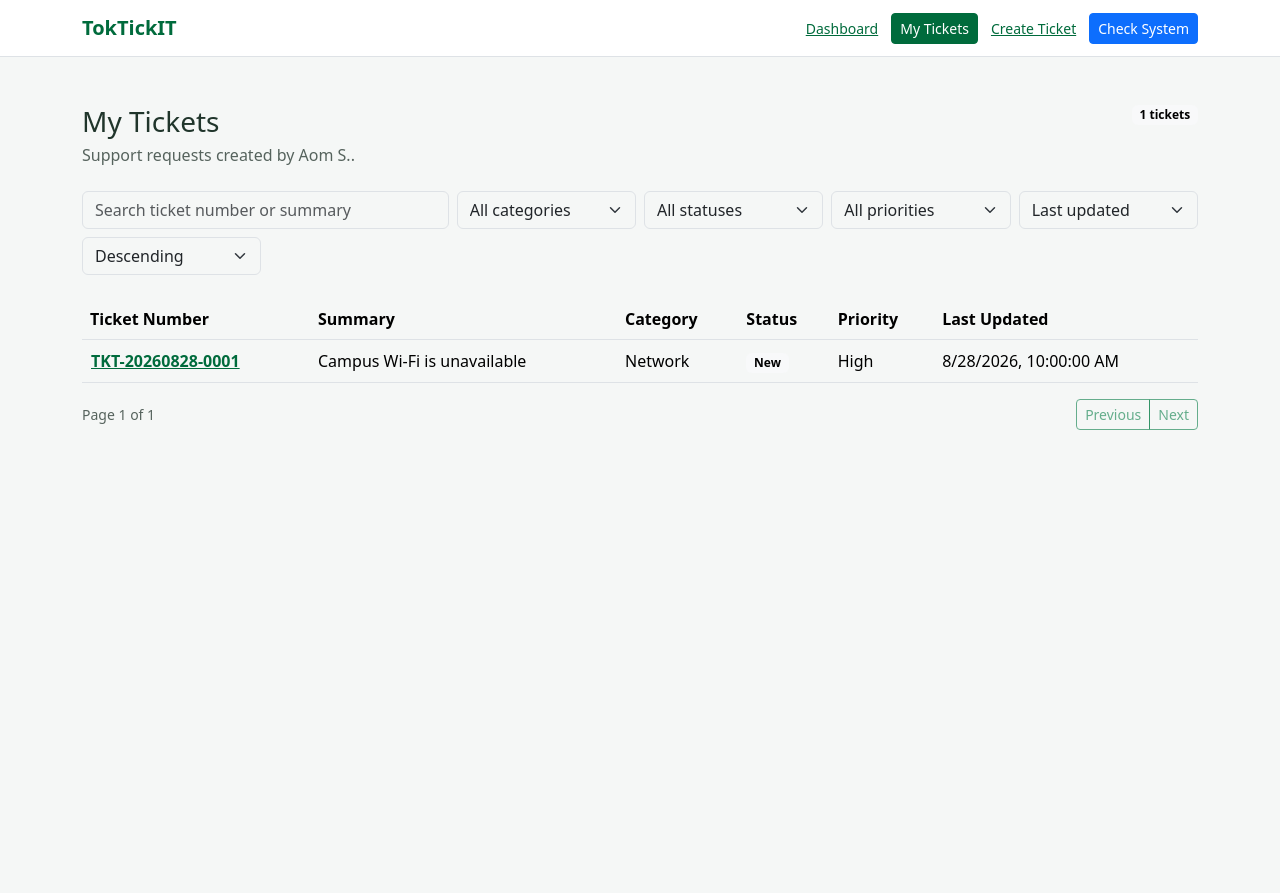
Test case: My Tickets and Ticket Detail › renders requester-owned API ticket data and opens its detail
The width and height of the screenshot is (1280, 893).
Expected: the text "Campus Wi-Fi is unavailable" is shown, [310,339,617,383]
Expected: the button "TKT-20260828-0001" is shown, [90,348,241,374]
Select "Network" in the 1st dropdown named "category" at point(546, 210), box [457,191,636,229]
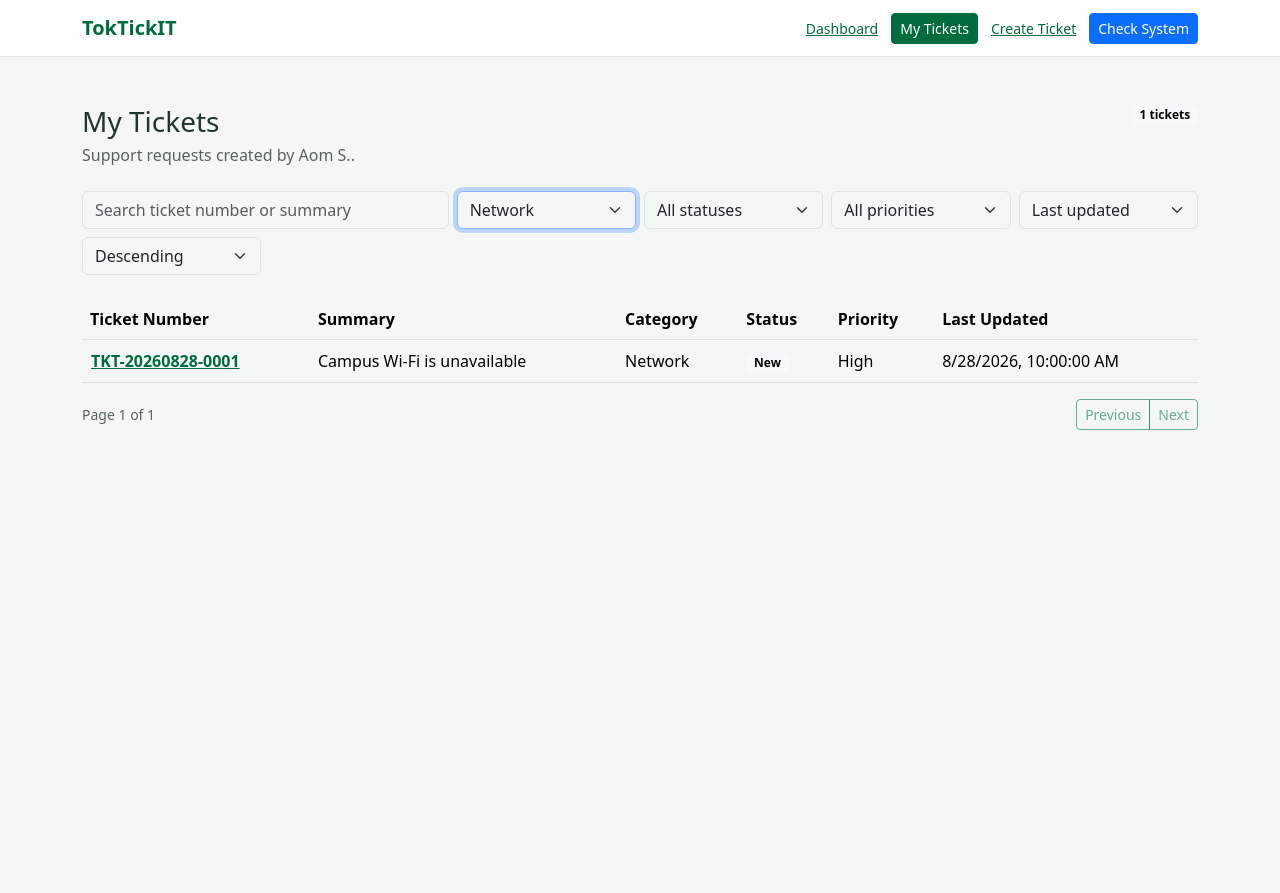
Select "Ascending" in the 5th dropdown named "sort direction" at point(172, 256), box [82,237,261,275]
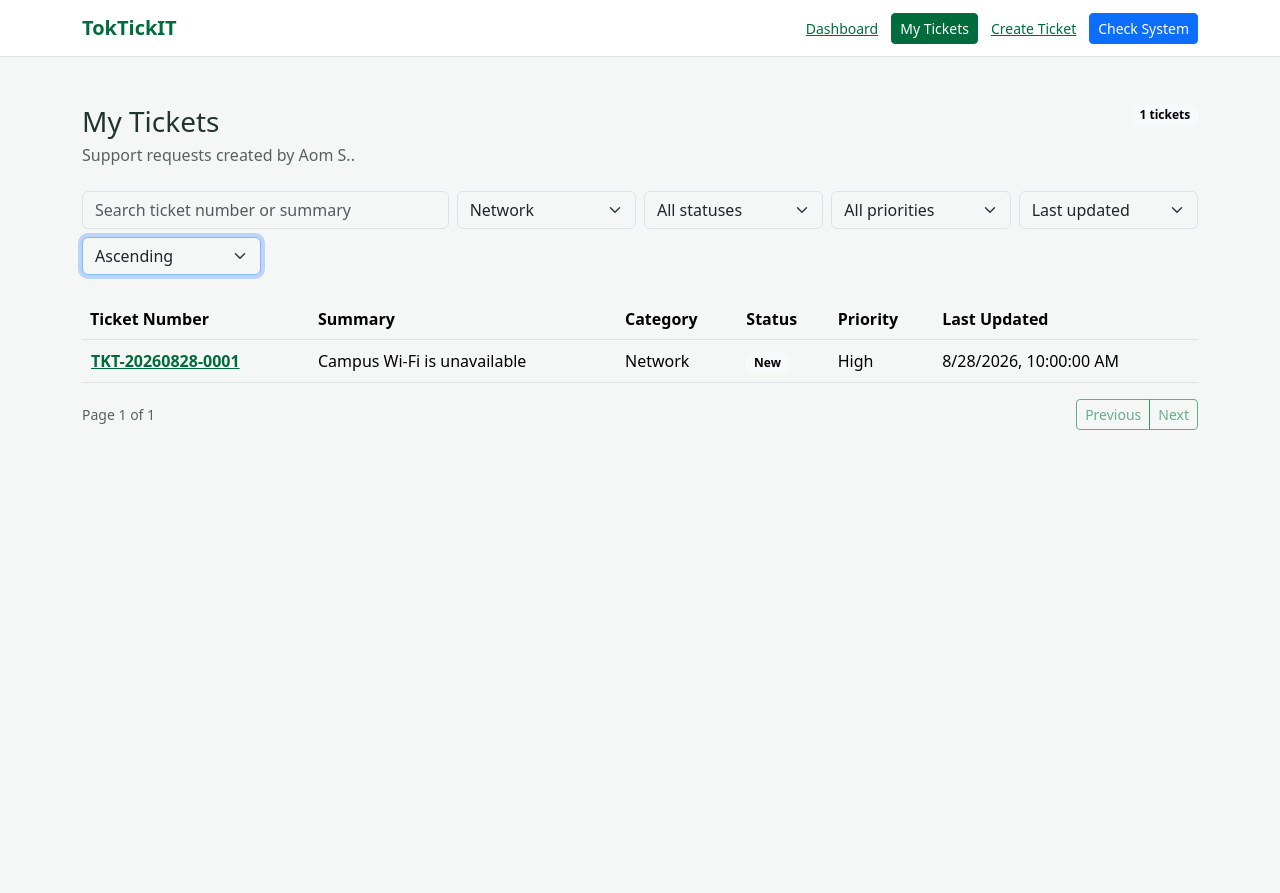
Click the button "TKT-20260828-0001" at point(165, 361), box [90,348,241,374]
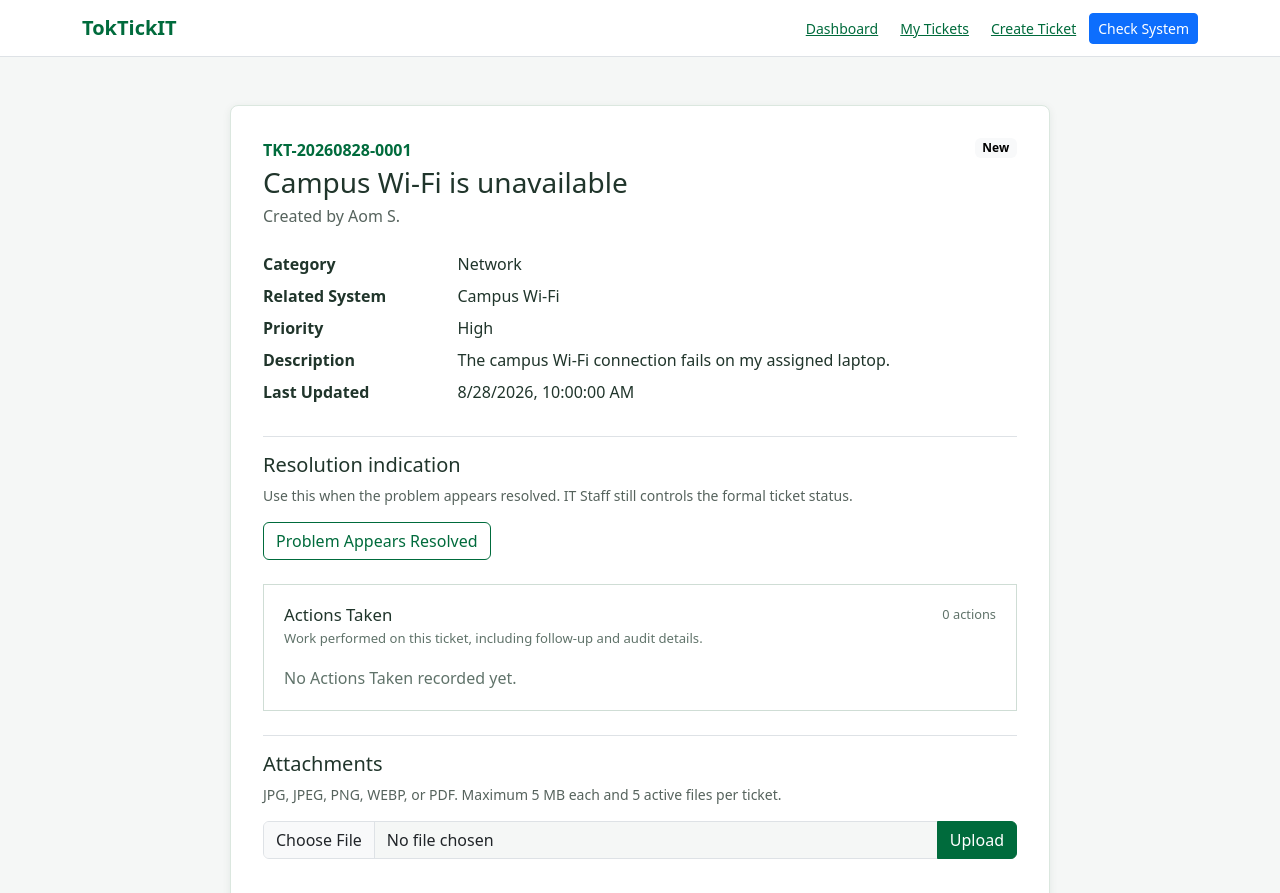
Expected: the text "The campus Wi-Fi connection fails on my assigned laptop." is shown, [458,349,890,371]
Expected: the text "Campus Wi-Fi" is shown, [458,285,560,307]
